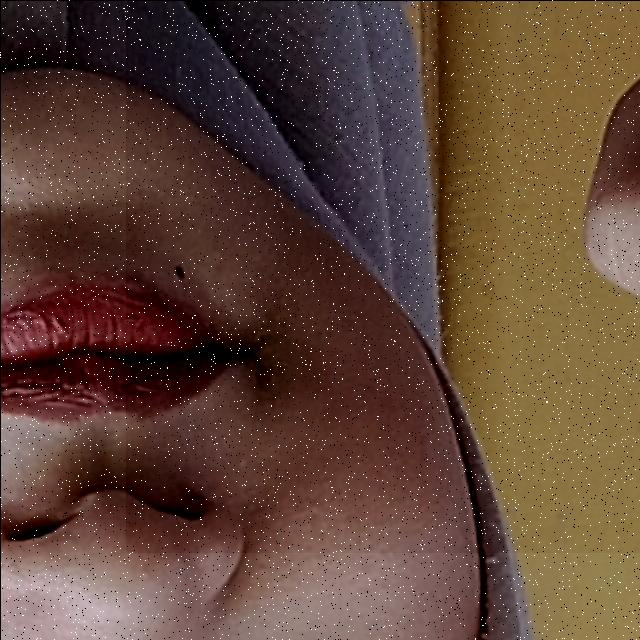baik: (125, 0, 640, 552)
